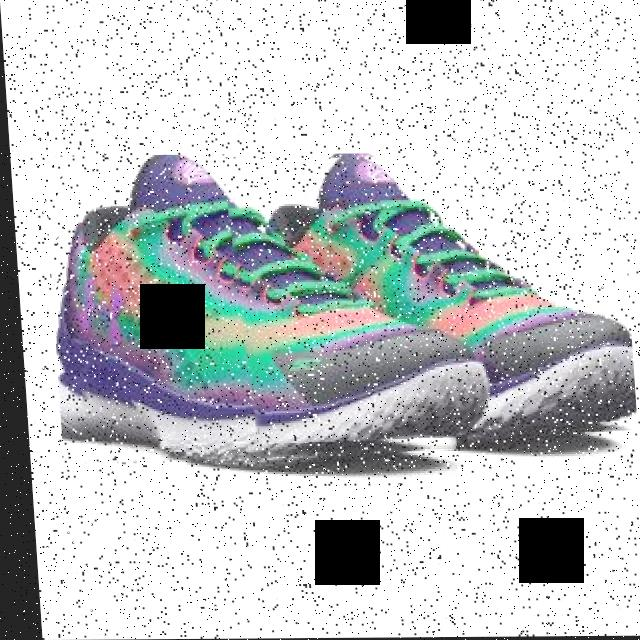shoe: (41, 153, 472, 468), (219, 156, 632, 445)
